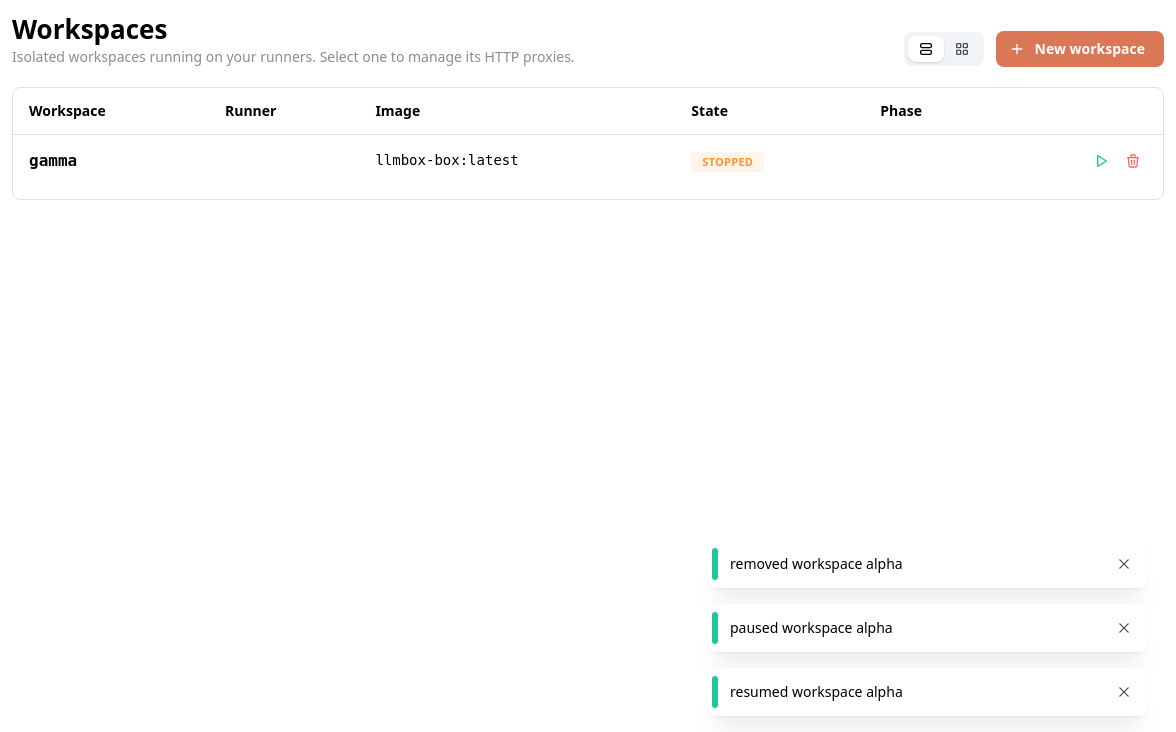
WorkspacesView › shows Start (not Pause) for a stopped workspace and resumes it
Click the button named "Start gamma" at {"x": 1101, "y": 161}, box top-left (1087, 147), bottom-right (1115, 175)
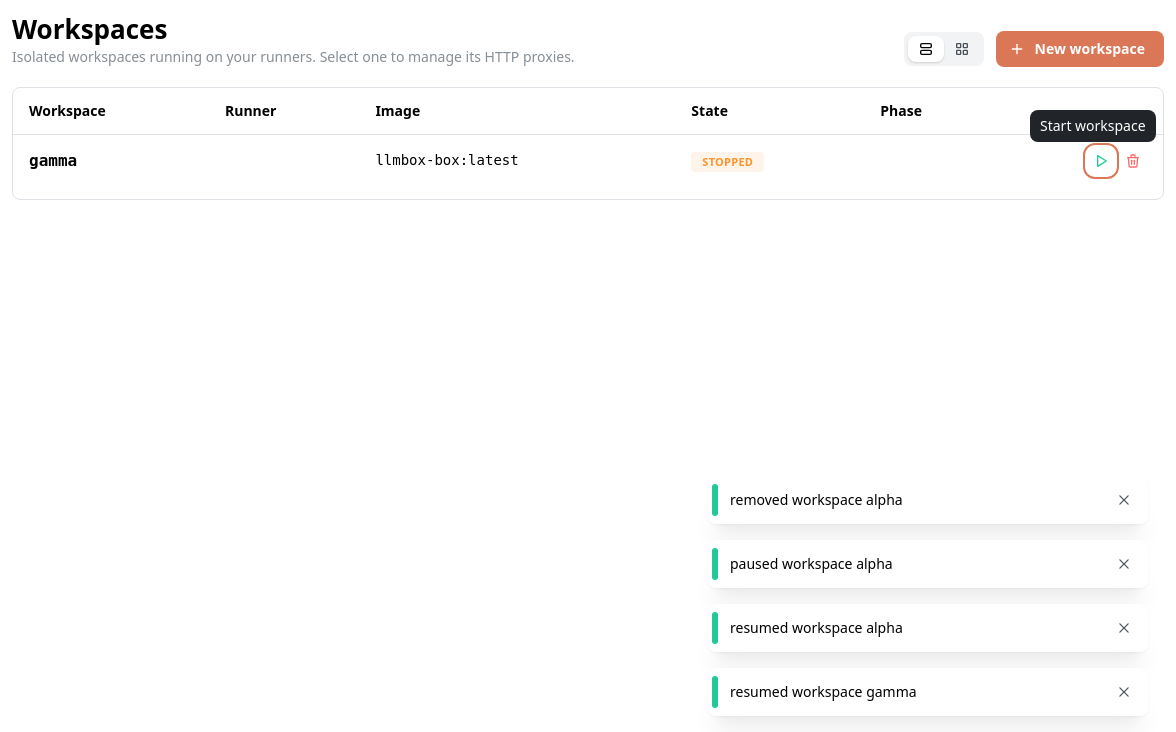
Result: the text "resumed workspace gamma" is shown at top-left (730, 682), bottom-right (917, 701)
